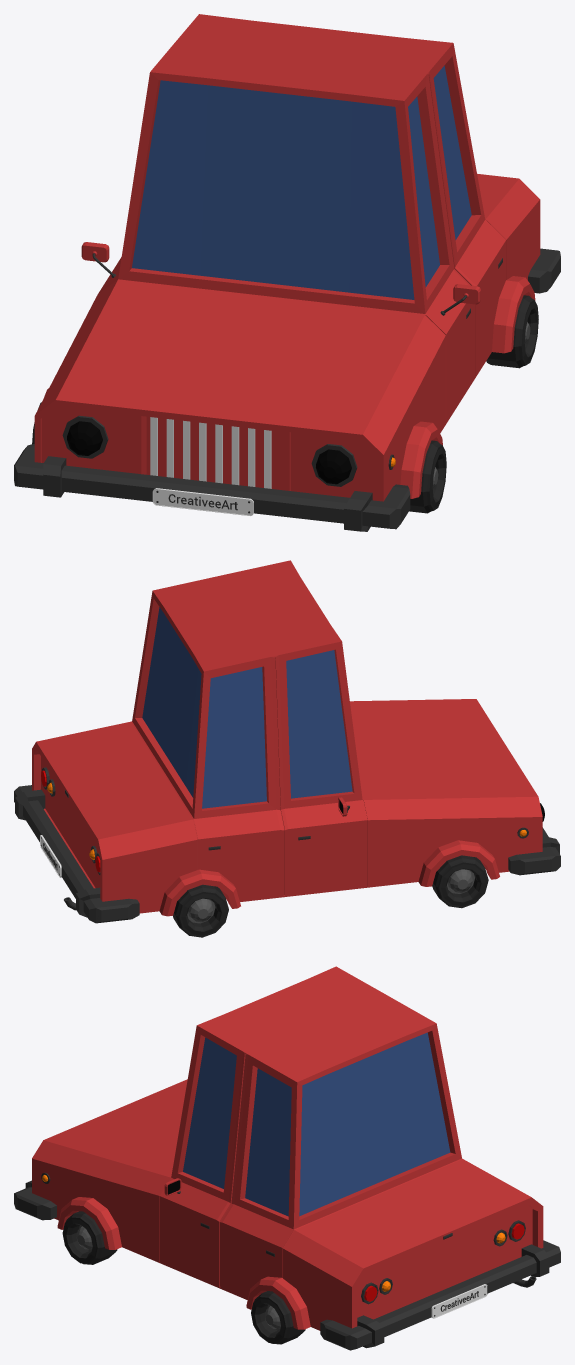
Rendered from car.fbx.
3 views of the same model, one above another, from view 1: azimuth 30°, elevation 25°; view 2: azimuth 150°, elevation 25°; view 3: azimuth 270°, elevation 25° (orthographic). The views are drawn at different scales.
Parts seen in each view (by area): view 1: Base, Bumper_01, Grid, front_lights, Wheel_02, Wing_2, Main_2, Wing, Wheel_01, Bumper_02, Cube; view 2: Base, Bumper_02, Wheel_01_3, Wheel_02_3, Wing_3, Wing_4, Bumper_01; view 3: Base, Bumper_02, Wheel_02, Wheel_01, Wing, Wing_2, Bumper_01, Main.
Part boxes in pixels (left/top/right/bottom): Base: left=34, top=14, right=540, bottom=501; Bumper_01: left=14, top=444, right=410, bottom=531; Grid: left=150, top=417, right=271, bottom=488; front_lights: left=62, top=415, right=357, bottom=486; Wheel_02: left=486, top=295, right=538, bottom=368; Wing_2: left=492, top=276, right=535, bottom=353; Main_2: left=152, top=488, right=253, bottom=515; Wing: left=400, top=421, right=442, bottom=498; Wheel_01: left=409, top=440, right=446, bottom=513; Bumper_02: left=528, top=248, right=560, bottom=293; Cube: left=81, top=242, right=480, bottom=304; Base: left=32, top=560, right=542, bottom=913; Bumper_02: left=14, top=785, right=139, bottom=923; Wheel_01_3: left=432, top=855, right=488, bottom=908; Wheel_02_3: left=173, top=884, right=228, bottom=937; Wing_3: left=418, top=840, right=499, bottom=886; Wing_4: left=159, top=869, right=240, bottom=916; Bumper_01: left=508, top=827, right=560, bottom=875; Base: left=32, top=966, right=543, bottom=1330; Bumper_02: left=320, top=1240, right=560, bottom=1350; Wheel_02: left=251, top=1291, right=305, bottom=1344; Wheel_01: left=62, top=1211, right=117, bottom=1264; Wing: left=57, top=1197, right=121, bottom=1249; Wing_2: left=246, top=1276, right=310, bottom=1329; Bumper_01: left=14, top=1180, right=56, bottom=1220; Main: left=431, top=1284, right=487, bottom=1318.
Size of the model in its own units: 388 by 201 by 388.
